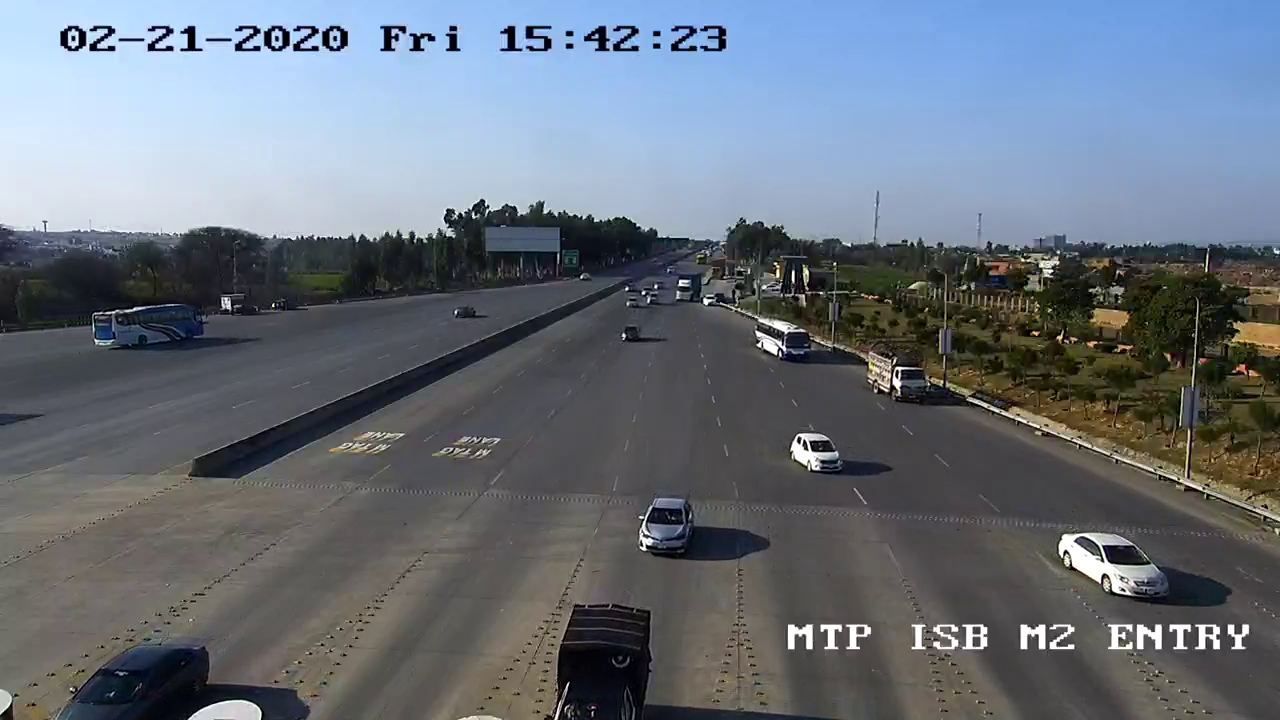f1: (1046, 518, 1177, 611), (627, 493, 707, 564), (782, 424, 849, 484)
